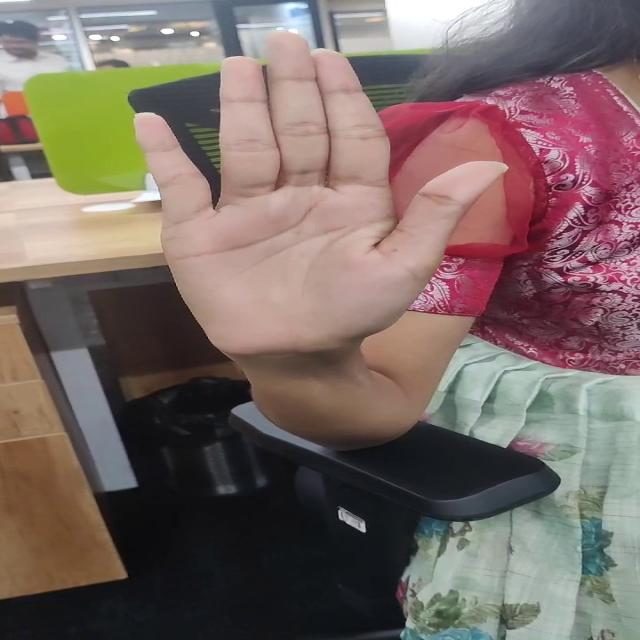no-gloves: (112, 19, 522, 352)
